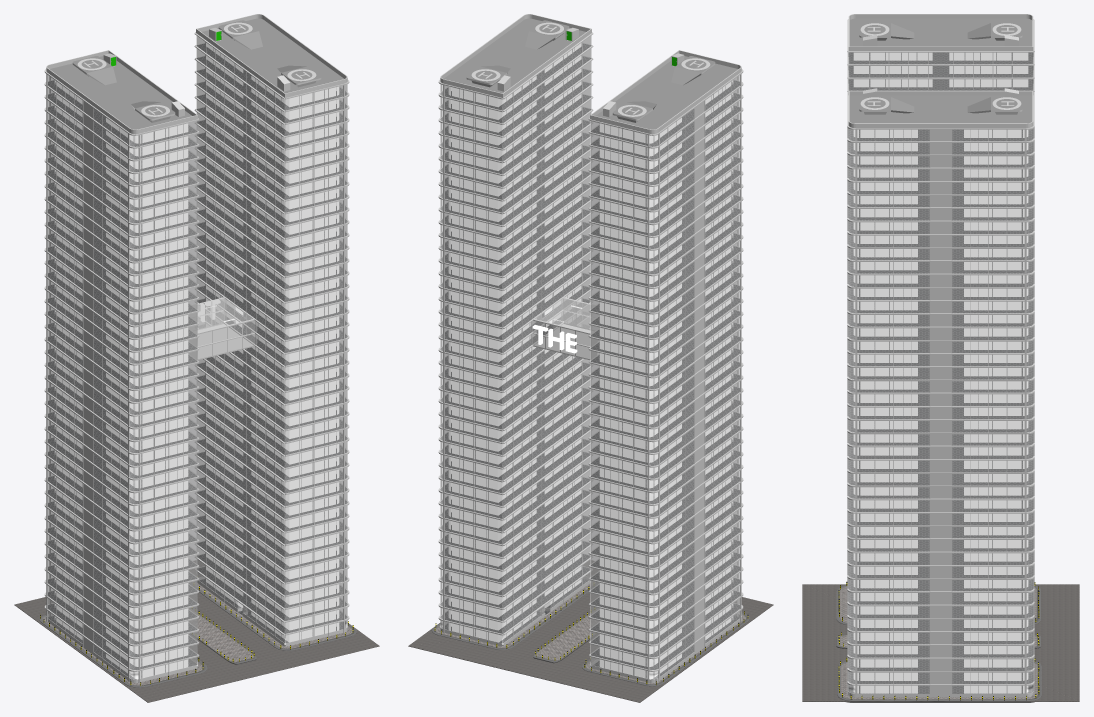
The model's file is the_h.glb.
The picture shows the model from 3 angles, left to right: view 1: azimuth 30°, elevation 25°; view 2: azimuth 150°, elevation 25°; view 3: azimuth 270°, elevation 25°; orthographic projection. The views are drawn at different scales.
Parts seen in each view (by area): view 1: Cube.002_2; view 2: Cube.002_2; view 3: Cube.002_2.
Part boxes in pixels (<box>): Cube.002_2: <box>14,14,379,702</box>; Cube.002_2: <box>408,14,773,702</box>; Cube.002_2: <box>802,14,1079,702</box>.
Size of the model in its own units: 38.36 by 88.65 by 38.36.
Materials: 13 (4 with a texture image).
